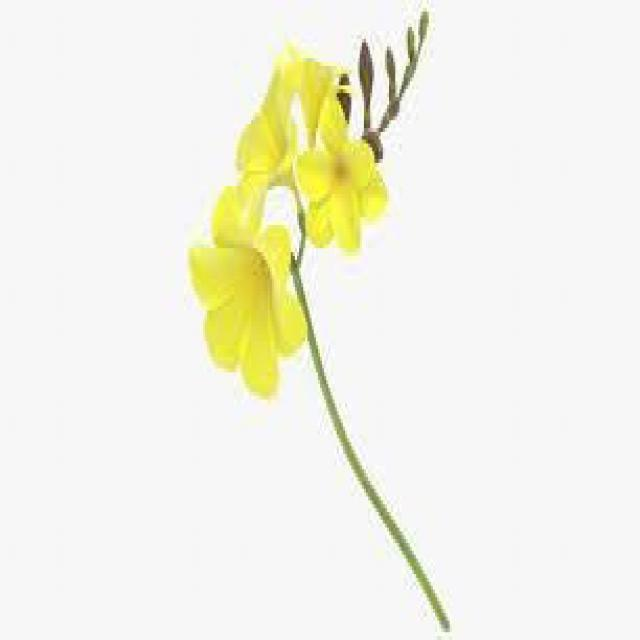freesia: (178, 34, 404, 394)
